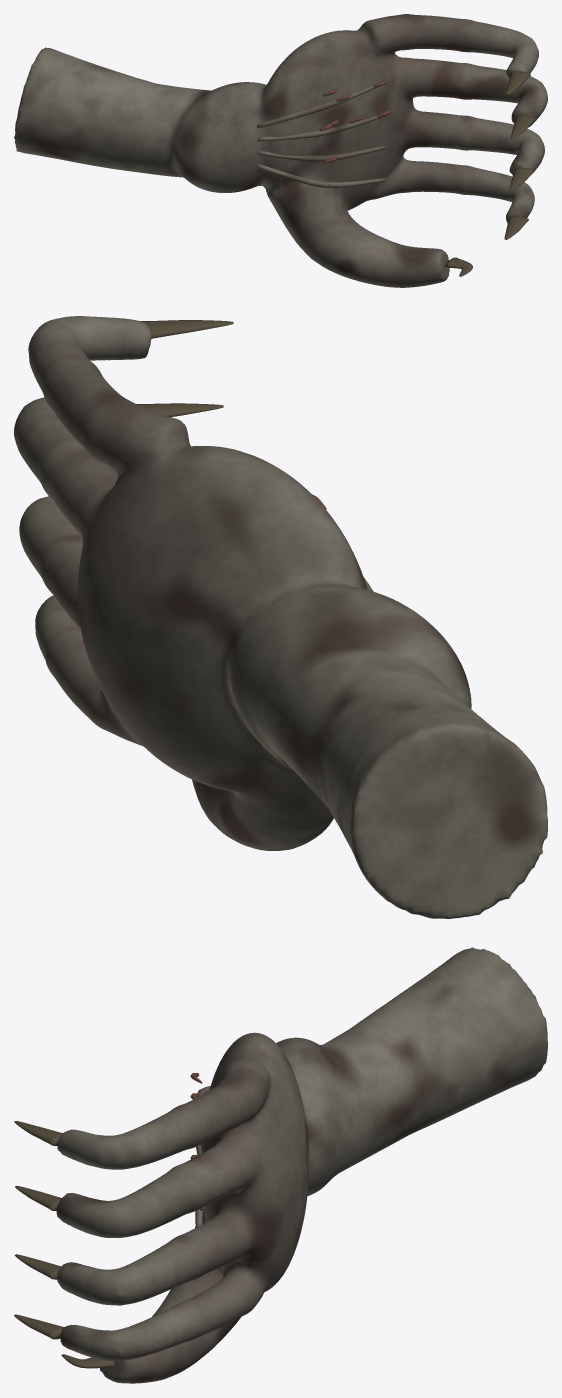
The model's file is intro-hand.glb.
3 views of the same model, one above another, from view 1: azimuth 30°, elevation 25°; view 2: azimuth 150°, elevation 25°; view 3: azimuth 270°, elevation 25° (orthographic). The views are drawn at different scales.
Visible parts, largest first — view 1: Hand-skin, Dorsal tendon, Dorsal tendon.003, Dorsal tendon.002, Dorsal tendon.001, Claw-1, Claw-4, Claw-3; view 2: Hand-skin, Claw-4, Claw-3; view 3: Hand-skin, Claw-1.
Boxes of the visible parts, <box> form: Hand-skin: <box>14,14,547,287</box>; Dorsal tendon: <box>256,164,386,187</box>; Dorsal tendon.003: <box>256,84,379,128</box>; Dorsal tendon.002: <box>257,115,385,141</box>; Dorsal tendon.001: <box>257,145,386,161</box>; Claw-1: <box>504,216,528,239</box>; Claw-4: <box>506,71,530,94</box>; Claw-3: <box>511,115,536,138</box>; Hand-skin: <box>14,316,547,918</box>; Claw-4: <box>140,320,233,338</box>; Claw-3: <box>136,403,223,416</box>; Hand-skin: <box>56,947,547,1383</box>; Claw-1: <box>14,1314,64,1339</box>.
Size of the model in its own units: 0.2872 by 0.1625 by 0.2435.
